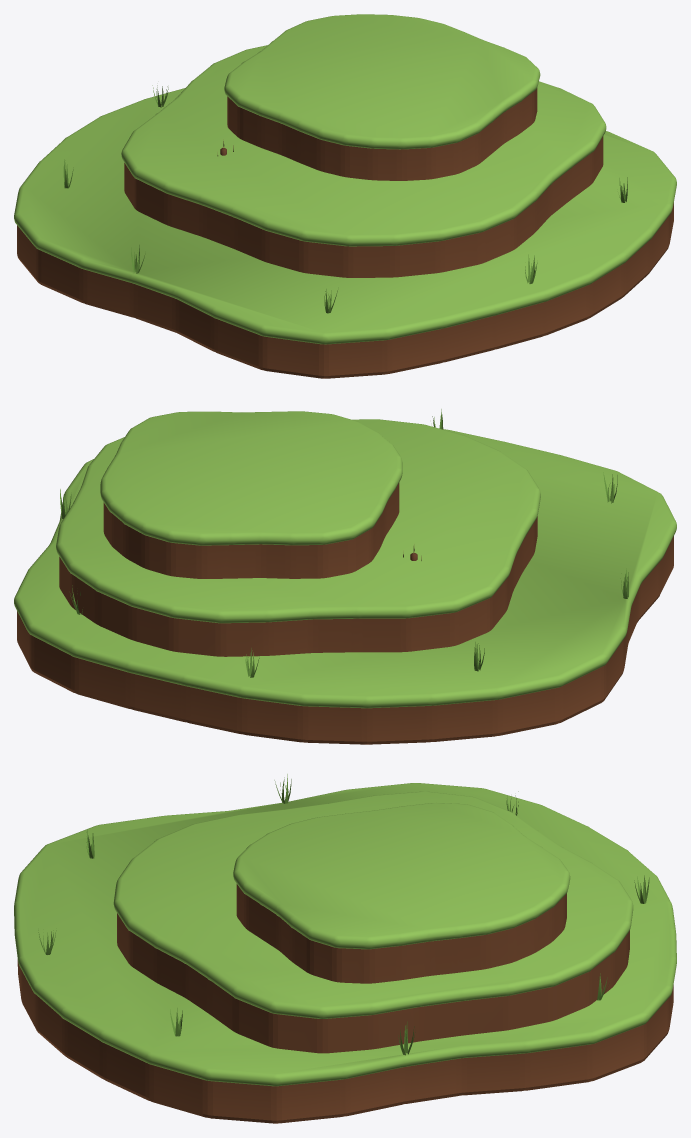
File: sol.glb
3 renders of one model, top to bottom at view 1: azimuth 30°, elevation 25°; view 2: azimuth 150°, elevation 25°; view 3: azimuth 270°, elevation 25°, orthographic. The views are drawn at different scales.
Visible parts, largest first — view 1: terrasses:herbe, terrasses:terre, terrasses:brin; view 2: terrasses:herbe, terrasses:terre, terrasses:brin; view 3: terrasses:herbe, terrasses:terre, terrasses:brin.
Part boxes in pixels (bbox=[...]): terrasses:herbe: bbox=[14, 14, 676, 344]; terrasses:terre: bbox=[17, 88, 673, 378]; terrasses:brin: bbox=[63, 85, 627, 313]; terrasses:herbe: bbox=[14, 411, 676, 708]; terrasses:terre: bbox=[17, 482, 673, 744]; terrasses:brin: bbox=[60, 409, 628, 677]; terrasses:herbe: bbox=[14, 783, 676, 1086]; terrasses:terre: bbox=[17, 884, 673, 1123]; terrasses:brin: bbox=[38, 774, 649, 1055].
Bounding box in the file's own units: 6.21 × 1.75 × 5.89.
